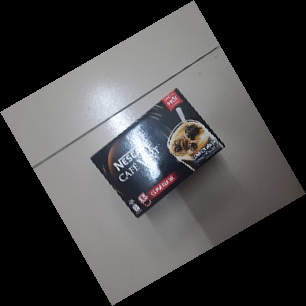CF Viet: (88, 87, 226, 220)
